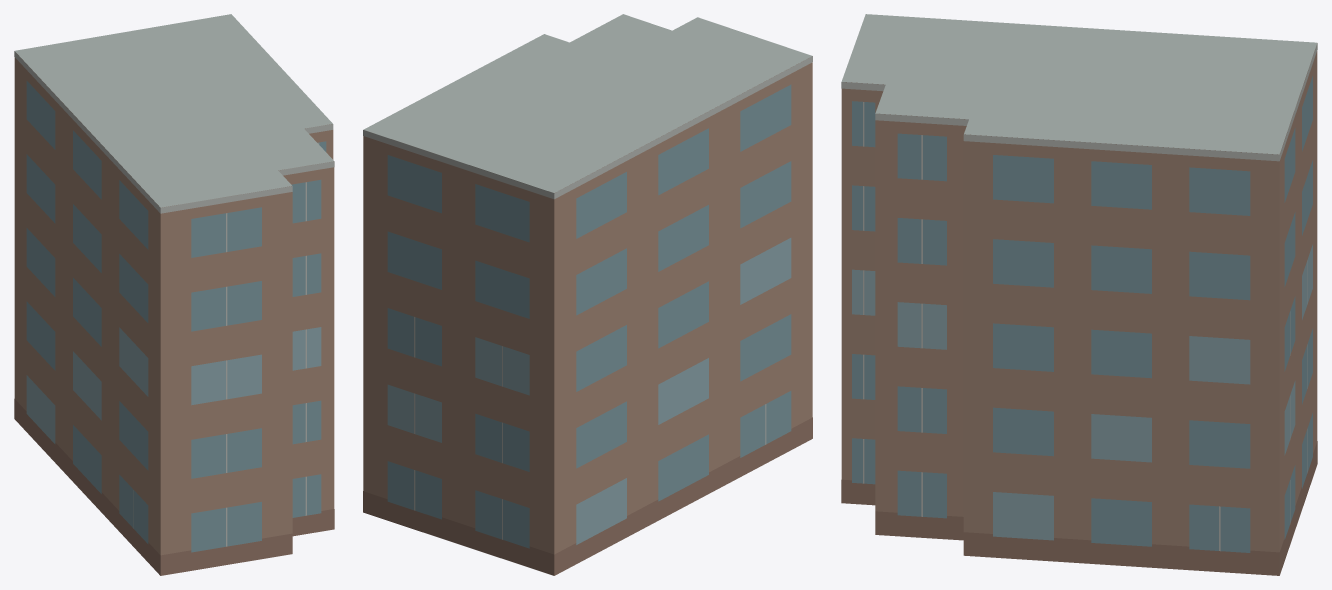
File: survey-upis-32677983.glb
3 renders of one model, left to right at view 1: azimuth 30°, elevation 25°; view 2: azimuth 150°, elevation 25°; view 3: azimuth 270°, elevation 25°, orthographic. The views are drawn at different scales.
Parts seen in each view (by area): view 1: survey-upis-32677983.tmp; view 2: survey-upis-32677983.tmp; view 3: survey-upis-32677983.tmp.
Boxes of the visible parts, x1=… form: survey-upis-32677983.tmp: x1=14, y1=14, x2=334, y2=575; survey-upis-32677983.tmp: x1=363, y1=14, x2=812, y2=575; survey-upis-32677983.tmp: x1=841, y1=14, x2=1317, y2=575.
Bounding box in the file's own units: 10.81 × 15.1 × 15.47.
